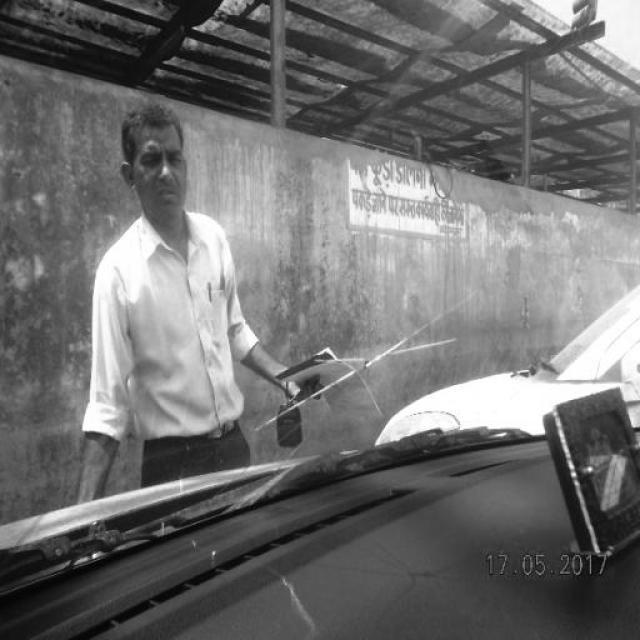car damage: (303, 363, 341, 394), (257, 399, 290, 434), (362, 345, 395, 373), (406, 334, 434, 353), (442, 322, 458, 350)
